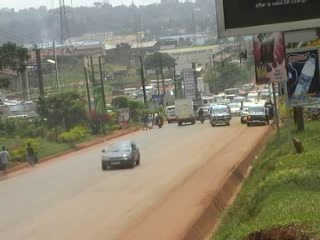Car: (98, 140, 141, 171), (227, 102, 244, 118), (194, 104, 212, 119)
Motorcycle: (153, 108, 163, 129), (197, 107, 205, 124)
